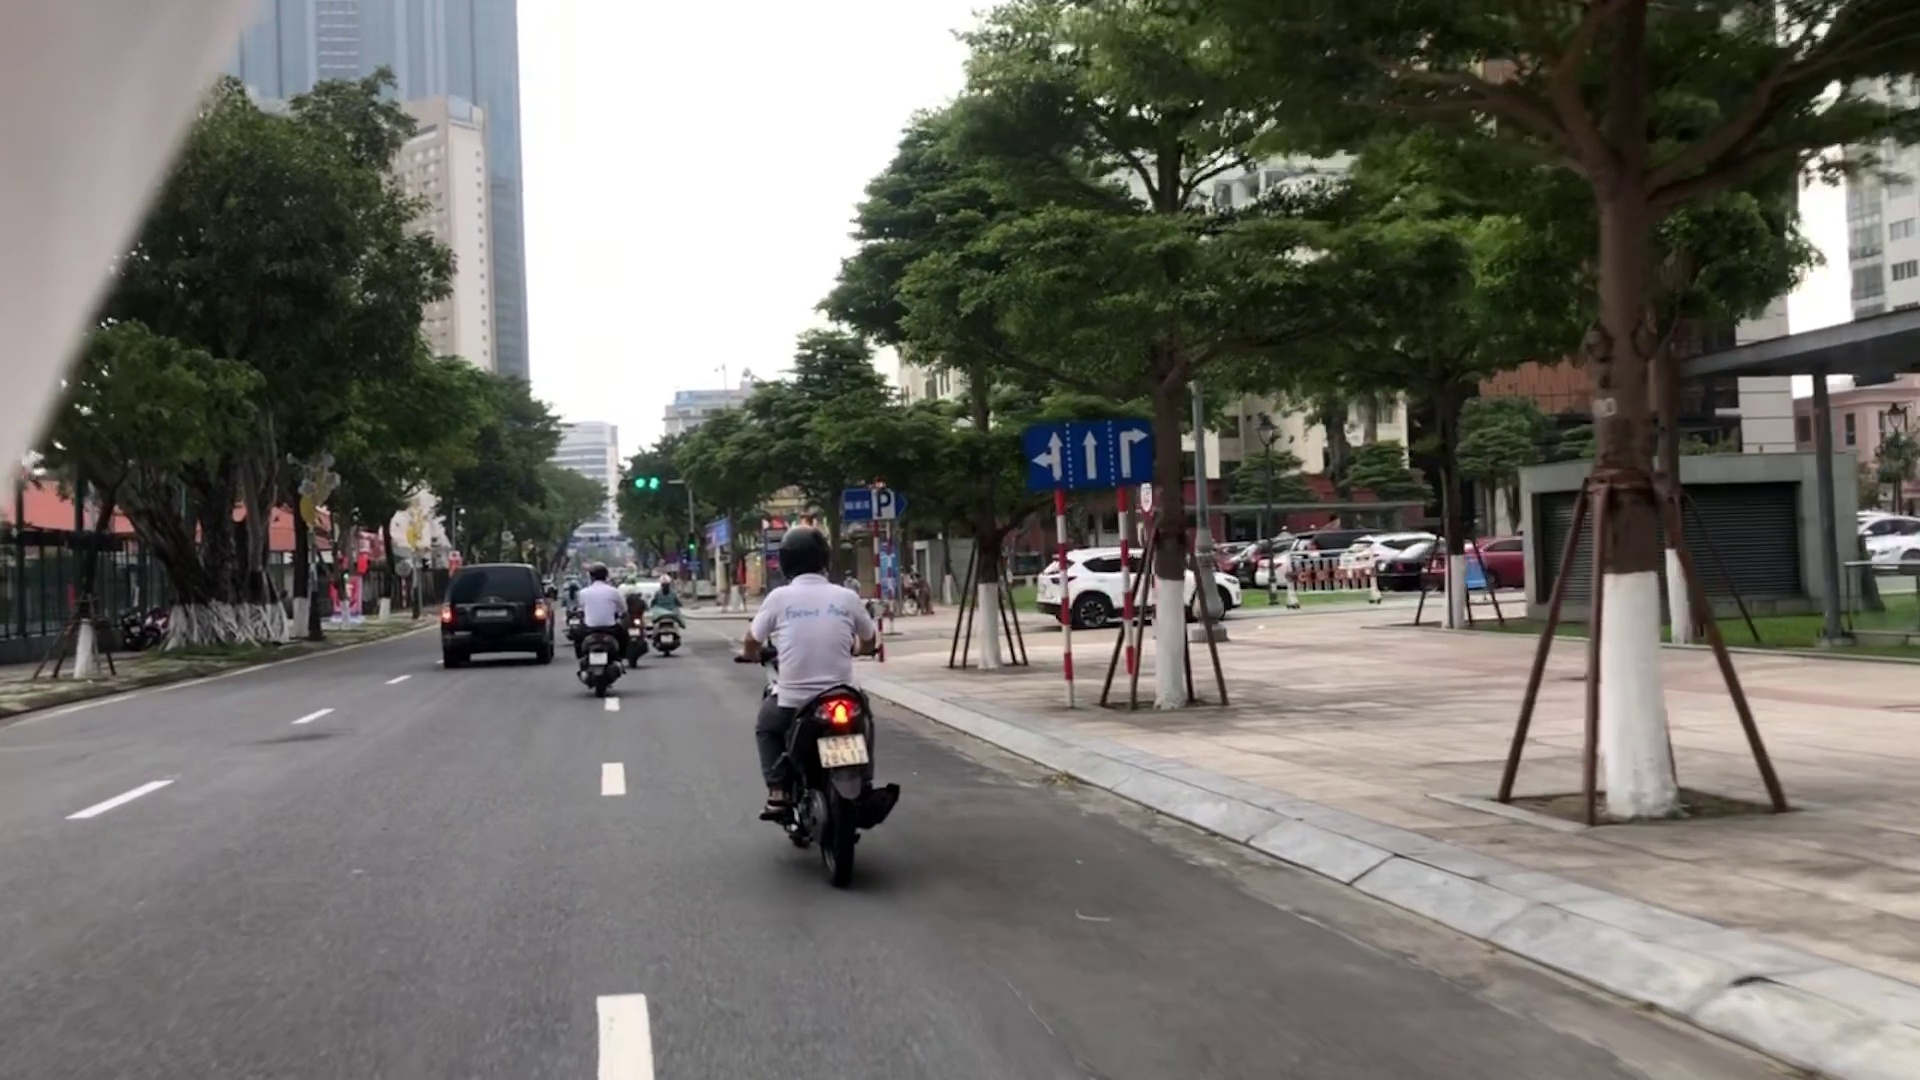Bien khac: (1027, 415, 1147, 488), (835, 489, 906, 521)
